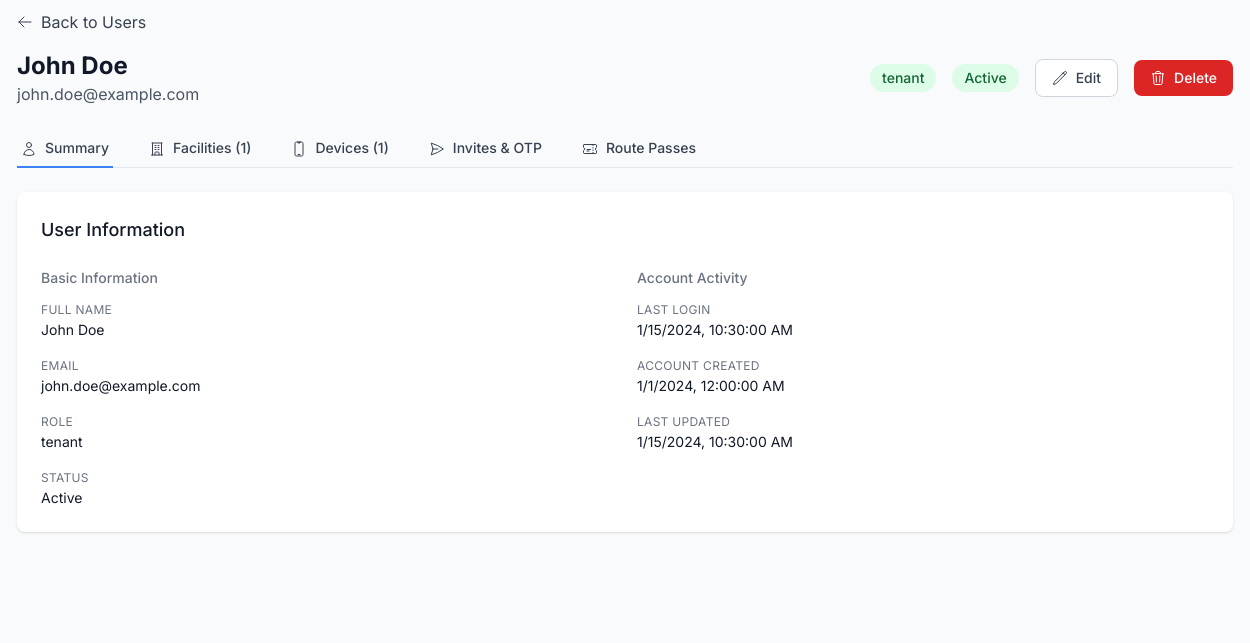
Scenario: UserDetailsPage › Tabs › should switch to devices tab when clicked
The image size is (1250, 643).
Click the button "Devices (1)". click: click(340, 149)
box: [288,130,393,168]
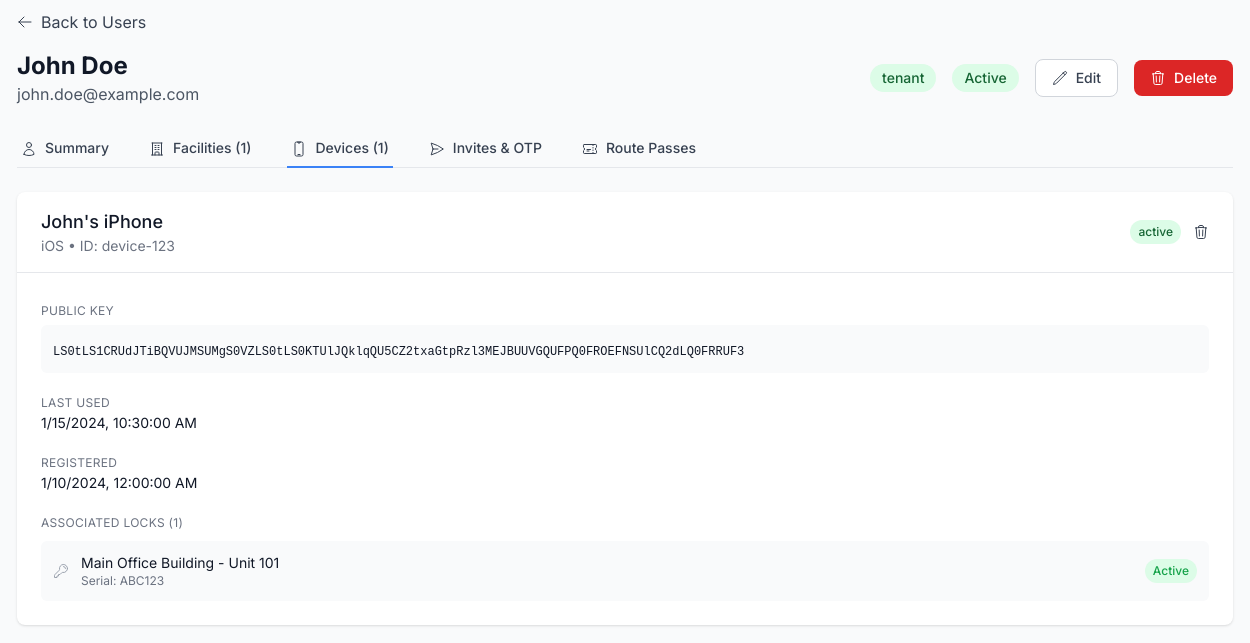
expect the heading "John's iPhone" is shown: met, box [41,208,175,236]
expect the text "Associated Locks (1)" is shown: met, box [41,515,183,530]
